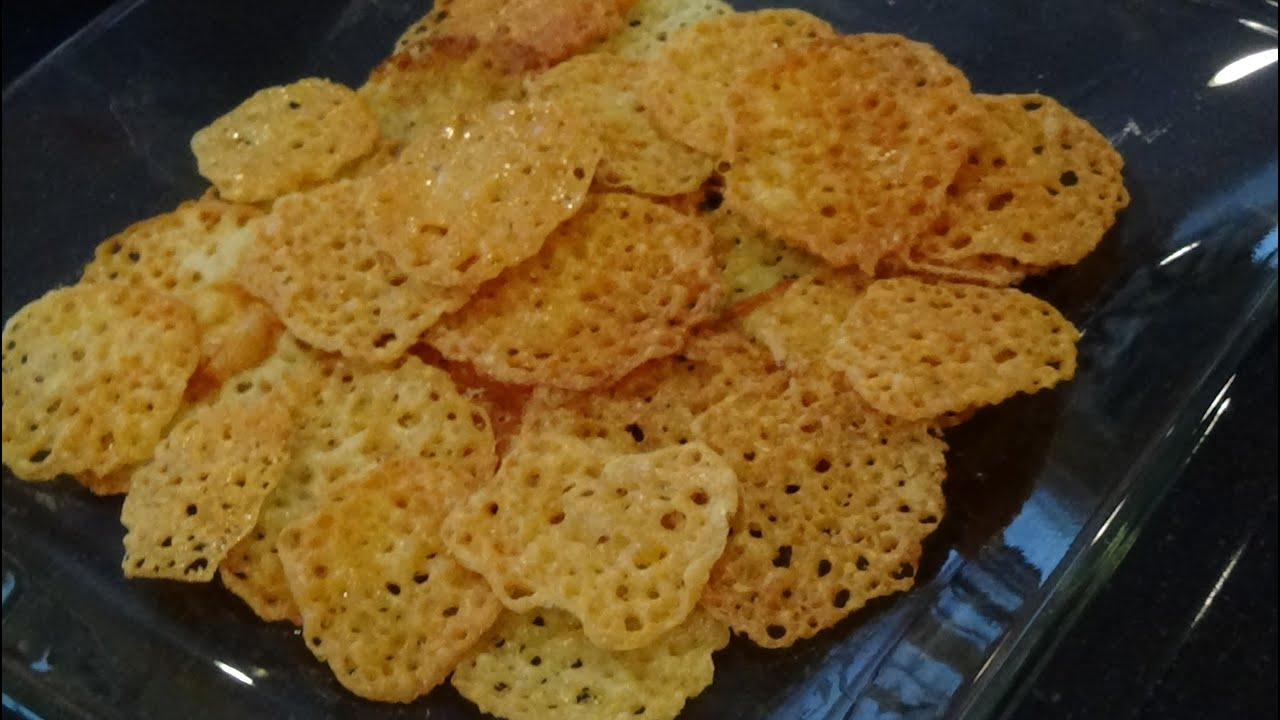cheese: (313, 144, 910, 566)
